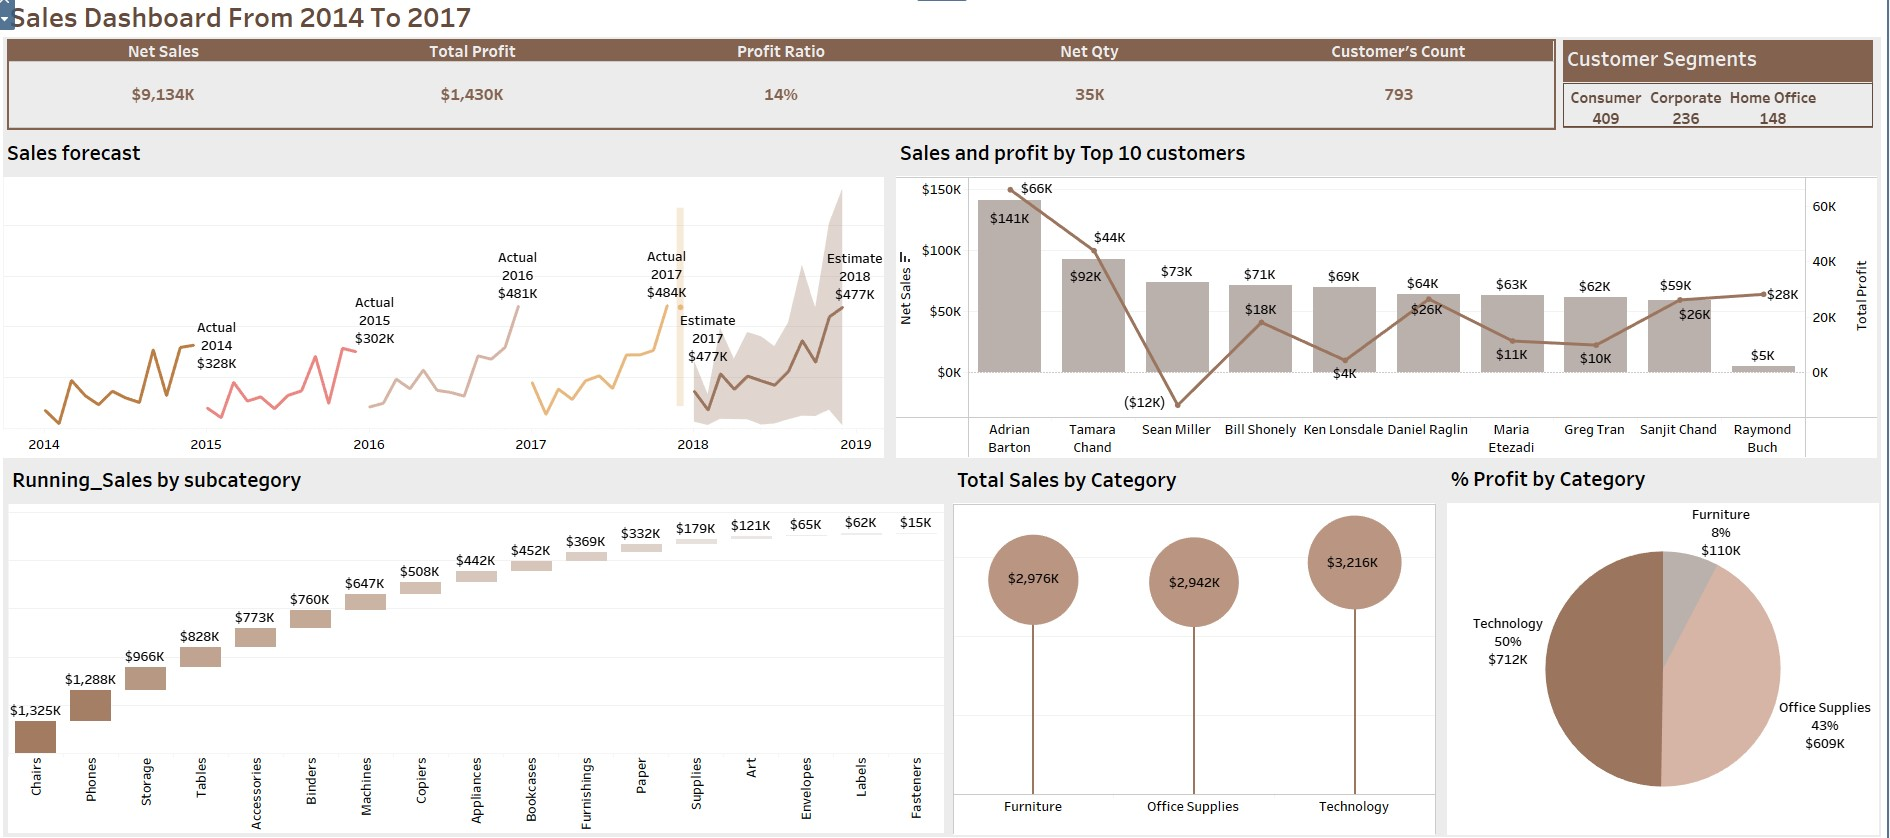

The dashboard page shown, as its layout file describes it:
{"tool":"tableau","page":{"name":"Sales Dashboard 1","canvas":[1000,1000],"units":"permille","ordinal":1},"visuals":[{"type":"title","box":[4.2,9.3,991.6,47.5]},{"type":"worksheet","title":"Totales","mark":"Automatic","box":[6.3,59,817.9,106.5]},{"type":"worksheet","title":"Customer Segments","mark":"Text","box":[827.9,60.2,163.7,103]},{"type":"worksheet","title":"Sales forecast","mark":"Automatic","rows":["Calculation_747034606184943620"],"cols":["Order Date"],"box":[4.2,170.1,465.2,378.5]},{"type":"worksheet","title":"Sales and profit by Top 10 customers","mark":"Bar","rows":["Calculation_747034606184943620","Calculation_747034606183997442"],"cols":["Customer Name"],"box":[475.7,170.1,518.5,378.5]},{"type":"worksheet","title":"% Profit by Category","mark":"Pie","box":[766.6,550.9,228.1,437.5]},{"type":"worksheet","title":"Running_Sales by subcategory","mark":"GanttBar","rows":["Calculation_747034606226956295"],"cols":["Sub-Category"],"box":[6.9,552.1,494.2,434]},{"type":"worksheet","title":"Total Sales by Category","mark":"Automatic","rows":["Calculation_747034606181748736","Calculation_747034606184943620"],"cols":["Category"],"box":[506,552.1,254.8,436.3]}]}

Visuals, with their boxes on the dashboard's canvas, which has no fixed pixel size, in thousandths of its width and height (x1, y1, x2, y2). These are canvas units, not pixel positions in the 1890x838 screenshot, which may show the page scaled, cropped or inside an application window:
title: region(4, 9, 996, 57)
"Totales" worksheet: region(6, 59, 824, 166)
"Customer Segments" worksheet (Text marks): region(828, 60, 992, 163)
"Sales forecast" worksheet: region(4, 170, 469, 549)
"Sales and profit by Top 10 customers" worksheet (Bar marks): region(476, 170, 994, 549)
"% Profit by Category" worksheet (Pie marks): region(767, 551, 995, 988)
"Running_Sales by subcategory" worksheet (GanttBar marks): region(7, 552, 501, 986)
"Total Sales by Category" worksheet: region(506, 552, 761, 988)
